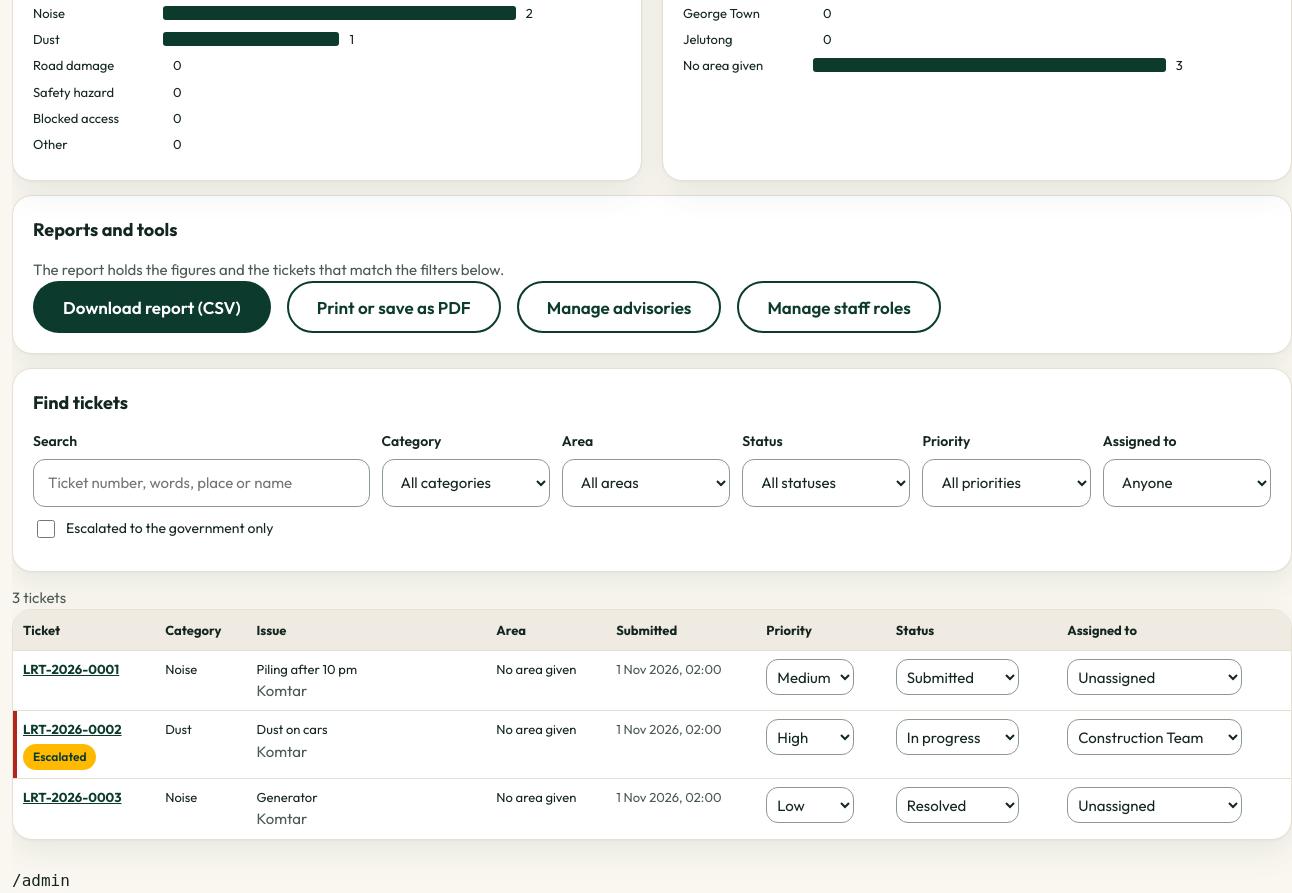
Test: dashboard: search and filter (UC03) › filters by keyword after typing stops, and by ticket number
The width and height of the screenshot is (1292, 893).
(page scrolled)
Expected: the link "LRT-2026-0001" is shown, [23, 661, 119, 677]
Type "0002" into the search field labelled "Search" at (201, 483), box [33, 459, 370, 507]
(page scrolled)
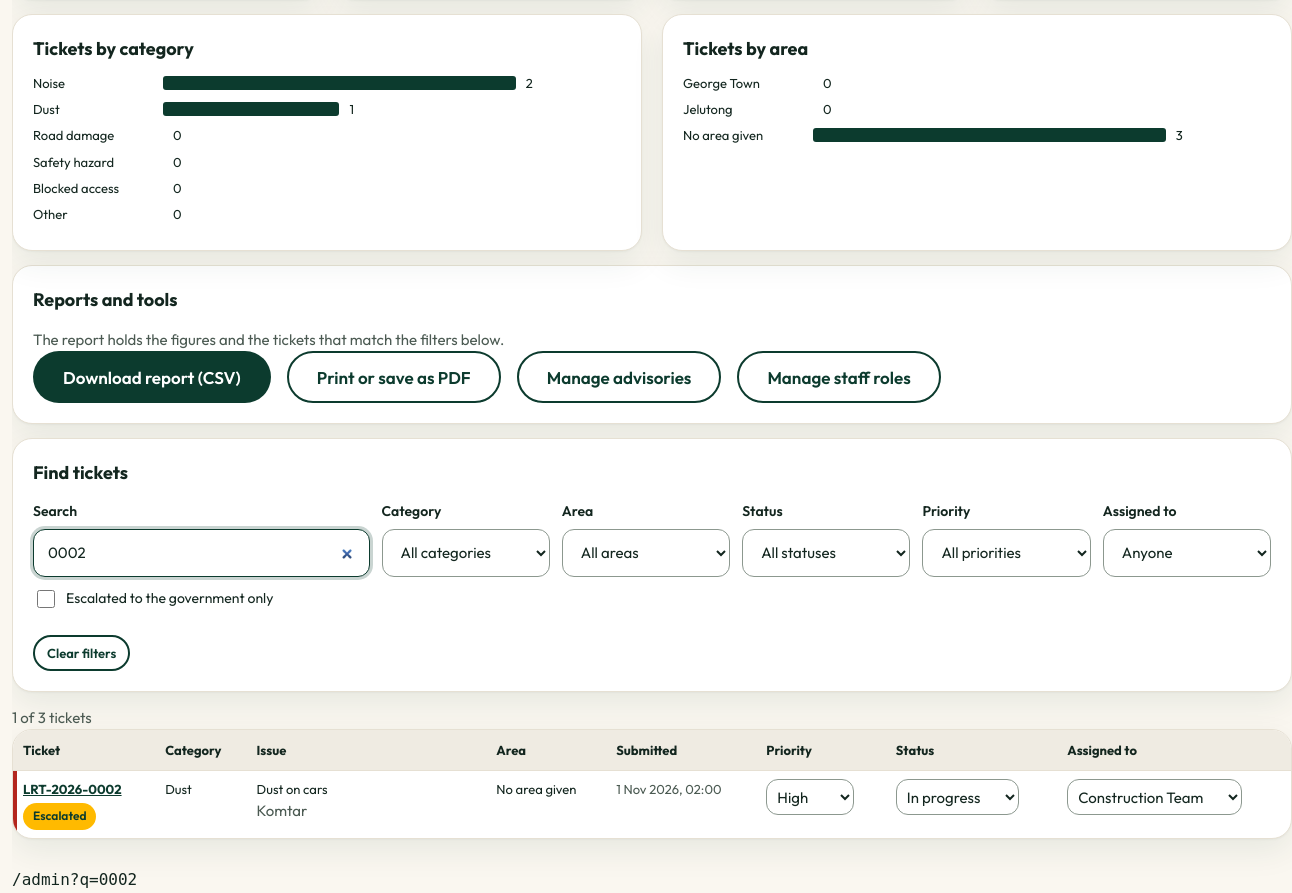
Now the text with test id "where" shows "q=0002", box [12, 870, 137, 889]
